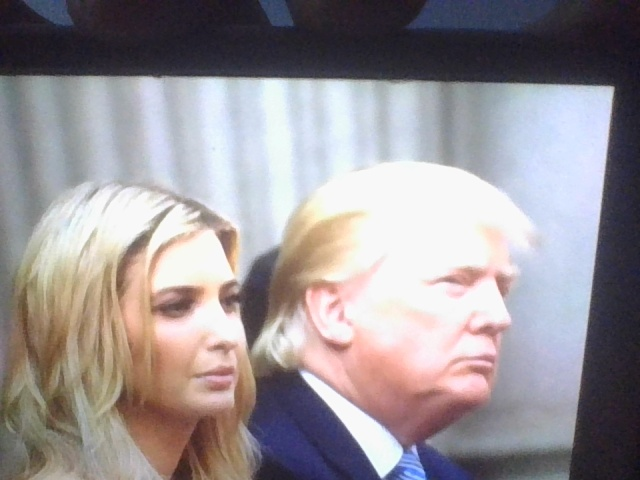fake: (314, 129, 536, 443), (86, 181, 264, 434)
